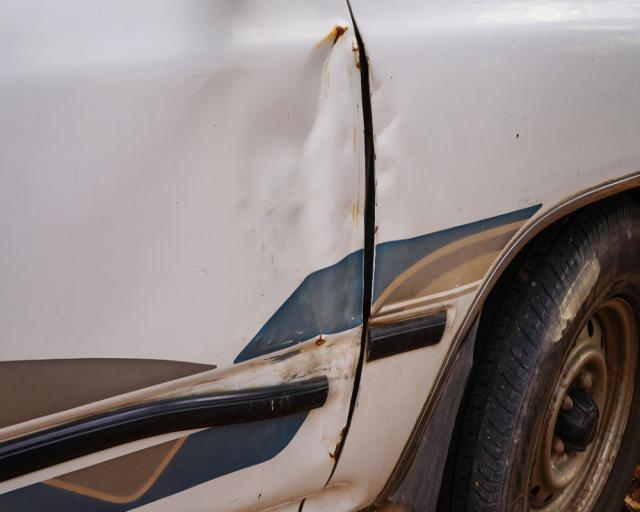dent: (188, 38, 360, 410), (369, 70, 405, 214)
